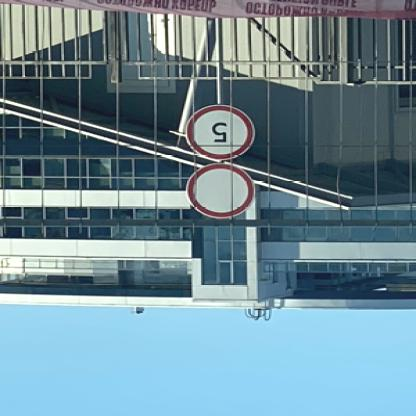speedlimit: (187, 106, 257, 161)
